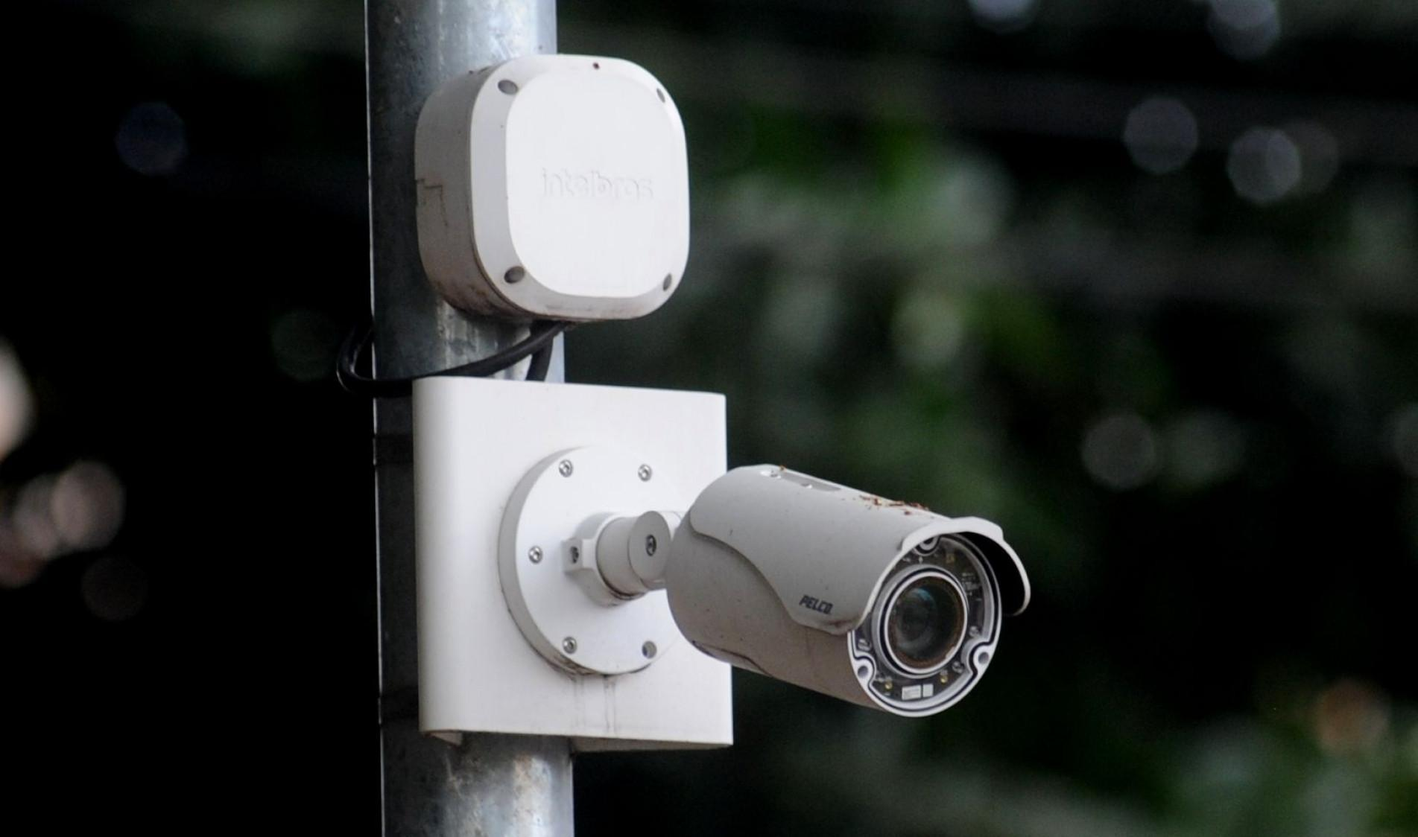camera: (639, 367, 1063, 832)
